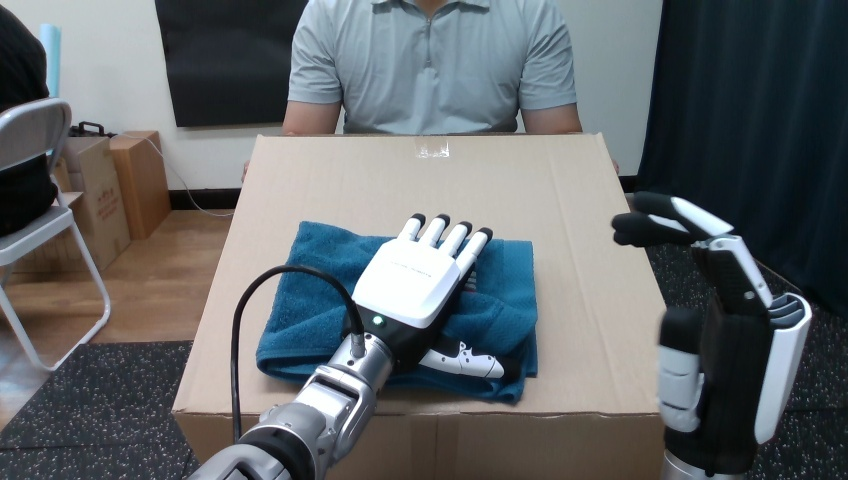left robot hand: (189, 214, 491, 479), (612, 191, 811, 478), (237, 270, 350, 437)
